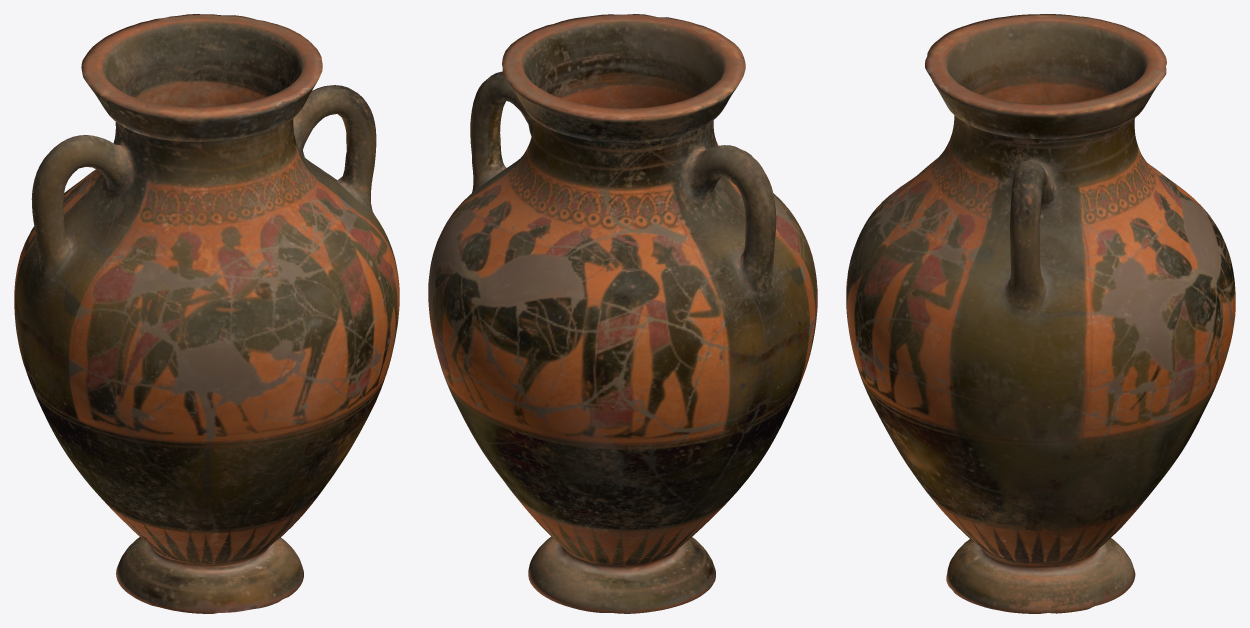
The model's file is cle-1923-645.glb.
3 renders of one model, left to right at view 1: azimuth 30°, elevation 25°; view 2: azimuth 150°, elevation 25°; view 3: azimuth 270°, elevation 25°, orthographic.
Visible parts, largest first — view 1: Object_2; view 2: Object_2; view 3: Object_2.
Part boxes in pixels (box(x1,y1,x2,y2)): Object_2: box(14, 14, 399, 613); Object_2: box(428, 14, 817, 613); Object_2: box(846, 14, 1235, 613).
Bounding box in the file's own units: 1.43 × 2.1 × 1.44.
1 material, 1 textured.
